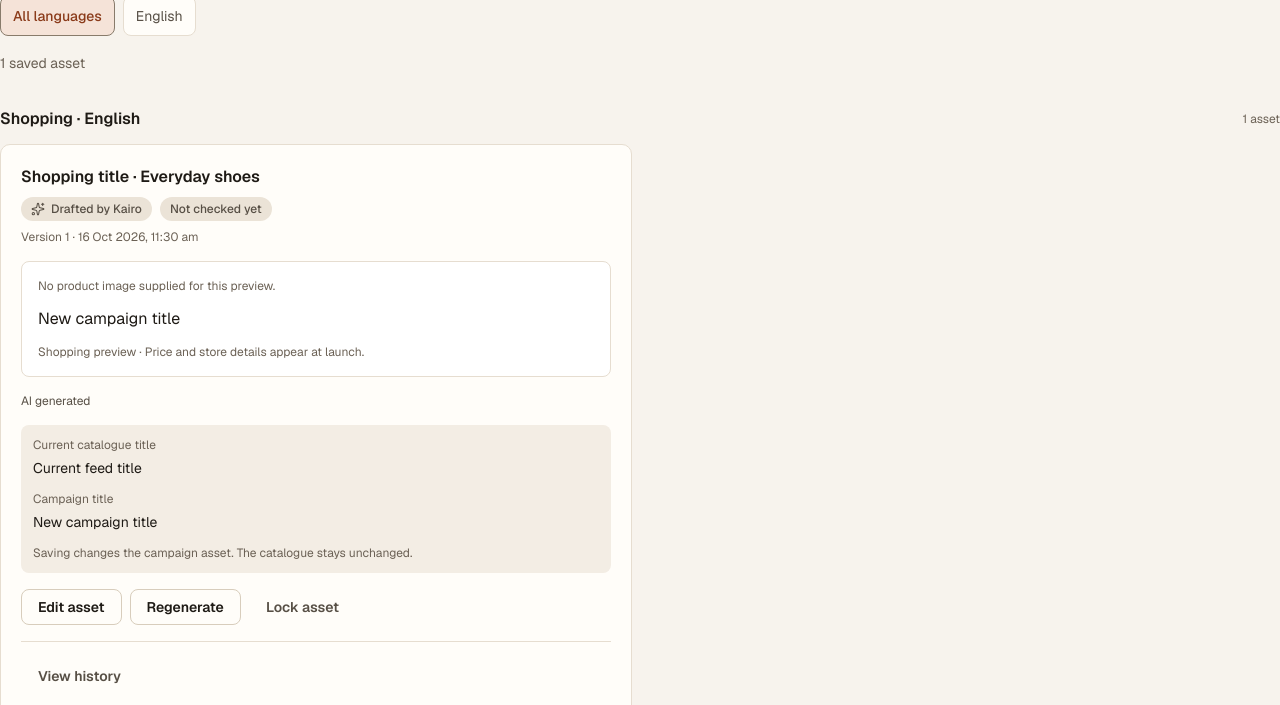
Test: regeneration requires explicit confirmation and preserves failed instructions
The width and height of the screenshot is (1280, 705).
(page scrolled)
Click the button "Regenerate".
click(185, 607)  # box [130,589,241,625]
(page scrolled)
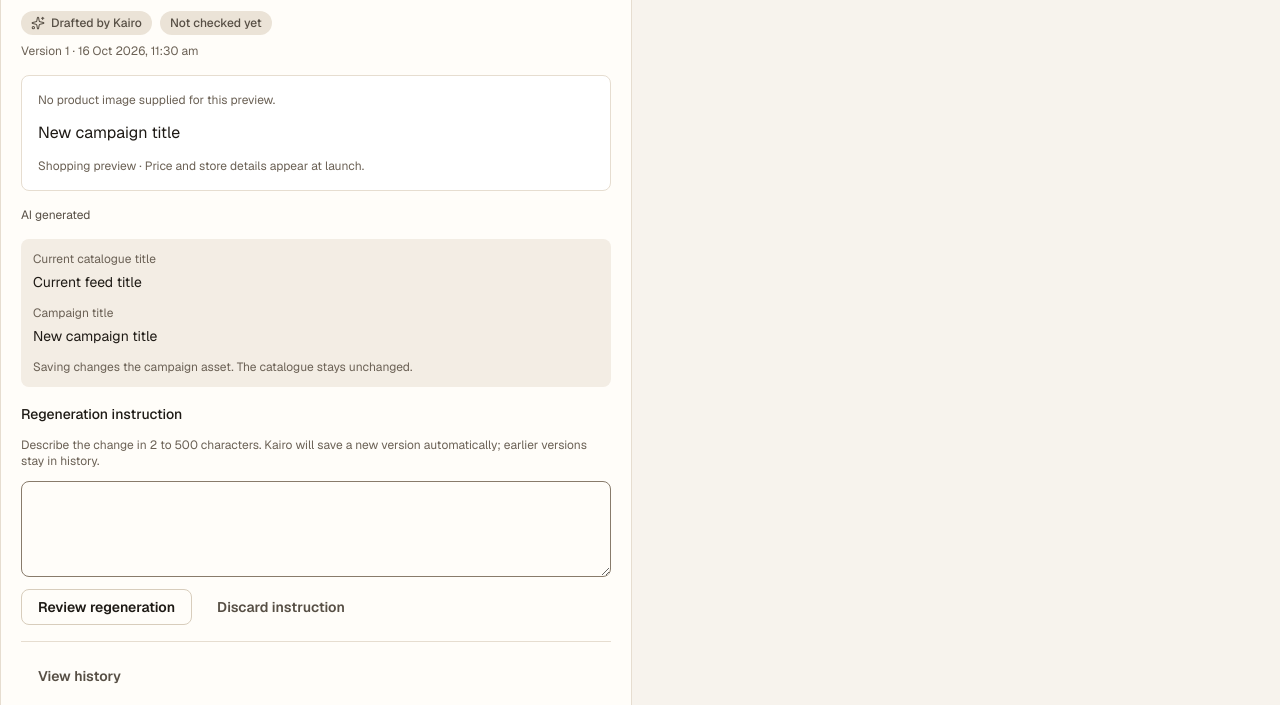
Type "Lead with comfort" into the text box labelled "Regeneration instruction".
click(316, 529); type("Lead with comfort")  # box [21,481,611,577]
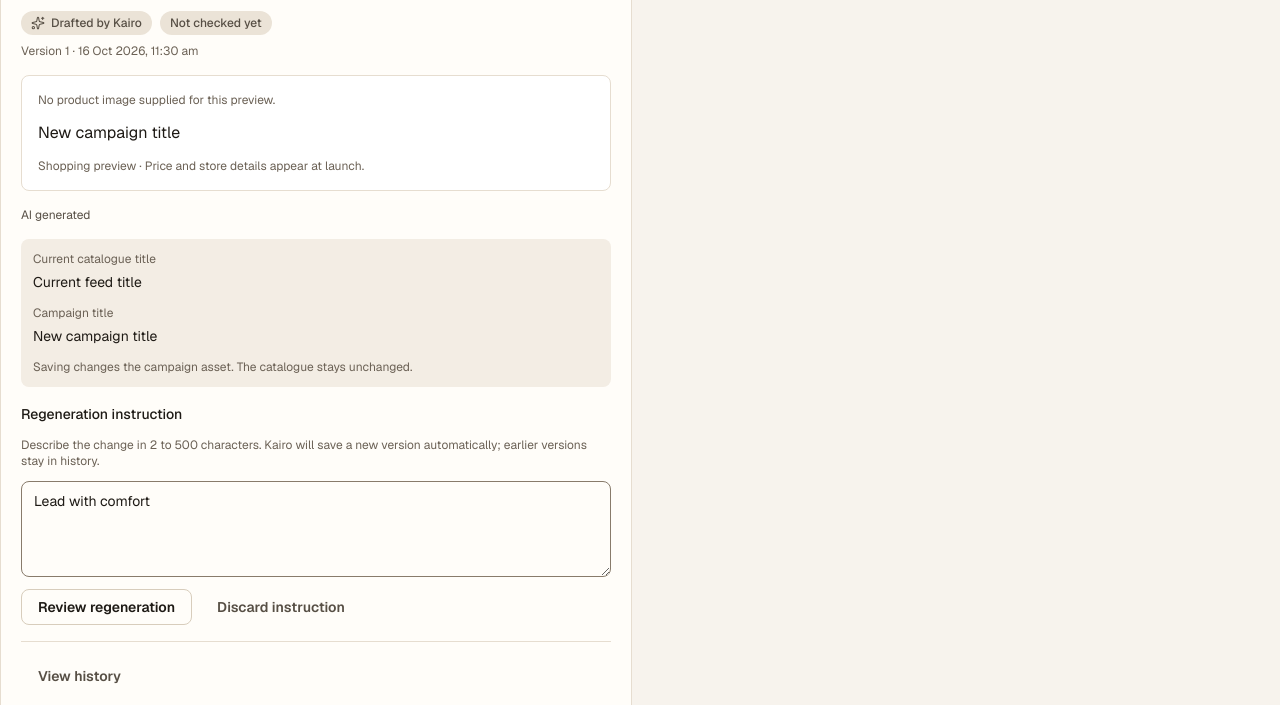
Click the button "Review regeneration".
click(107, 607)  # box [21,589,192,625]
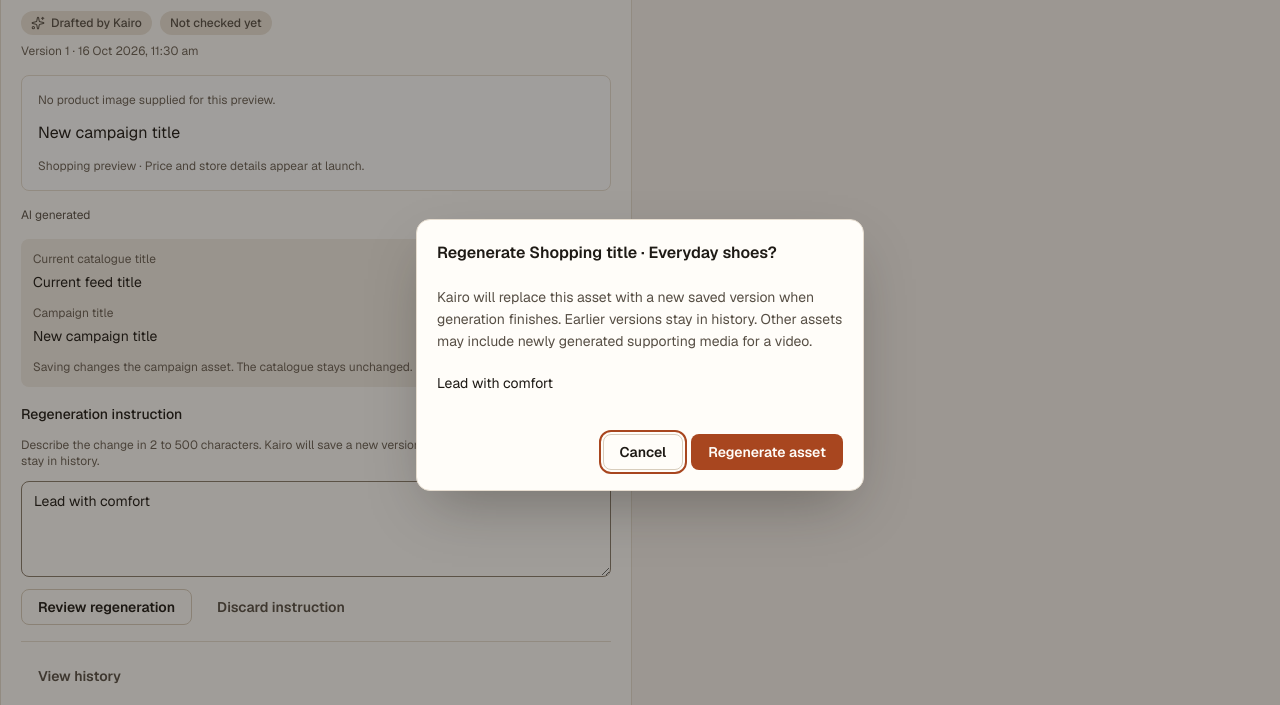
Click the button "Regenerate asset".
click(767, 452)  # box [691,434,843,470]
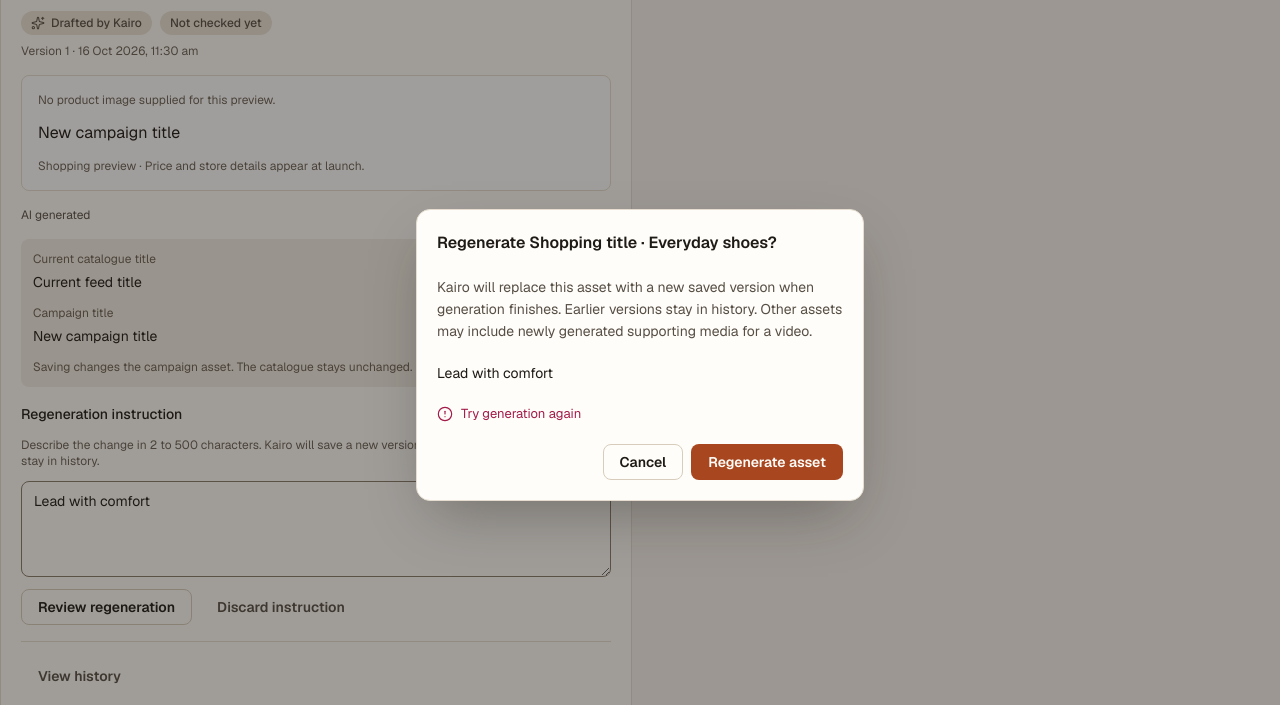
Result: the button "Regenerate asset" is enabled
Result: the text "Try generation again" is shown at [461,404,581,424]
Click the button "Regenerate asset".
click(767, 462)  # box [691,444,843,480]
(page scrolled)
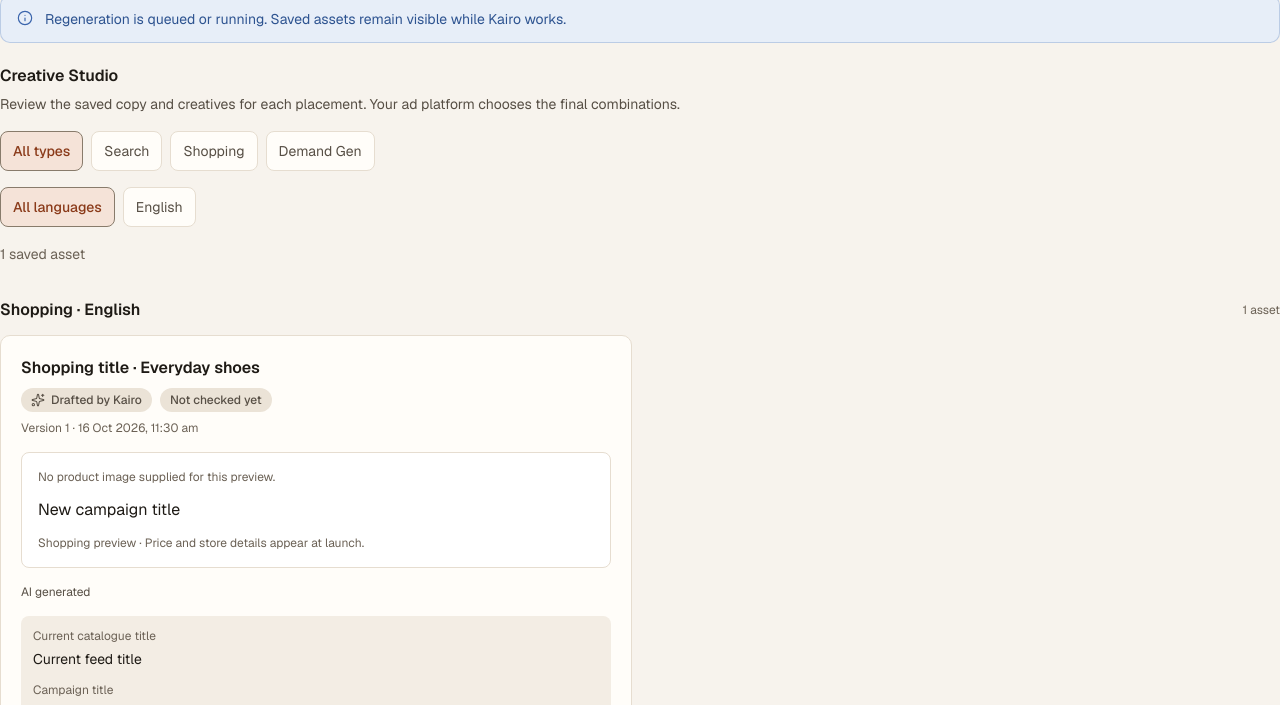
Result: the text "Saved assets remain visible" is shown at [45,10,566,28]
